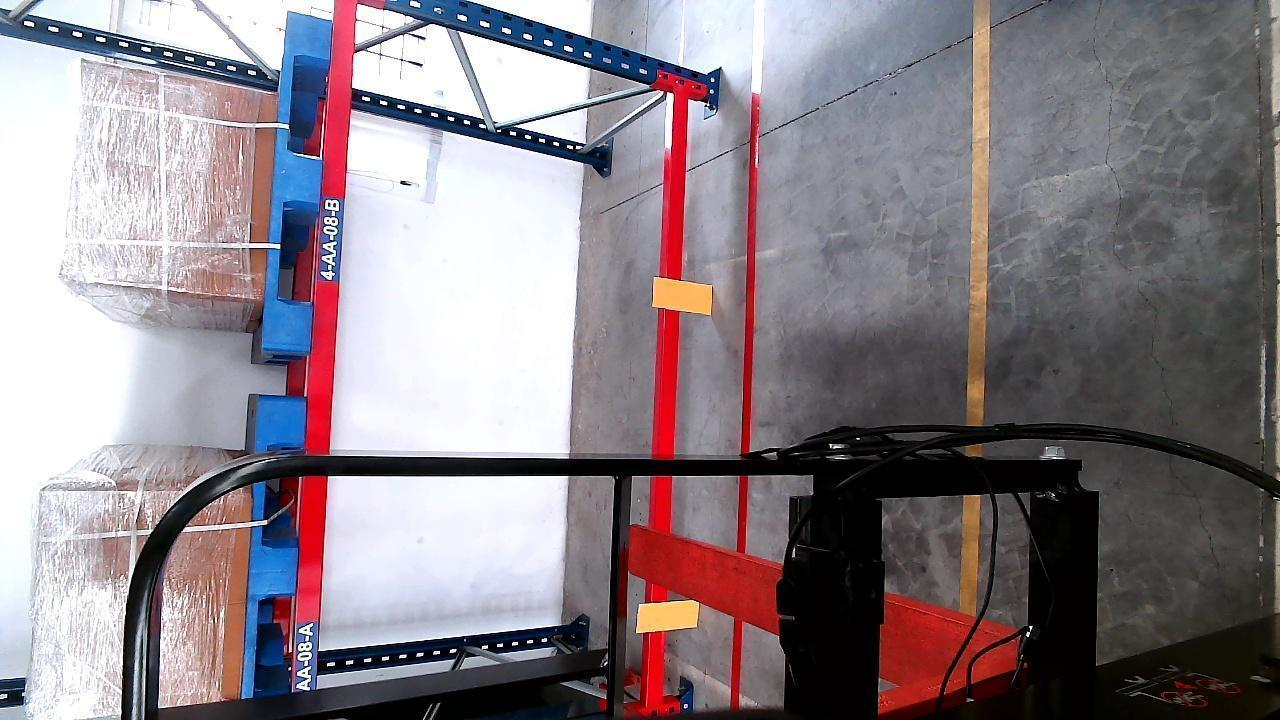red_line: (728, 91, 767, 709)
yellow_line: (967, 0, 992, 426)
